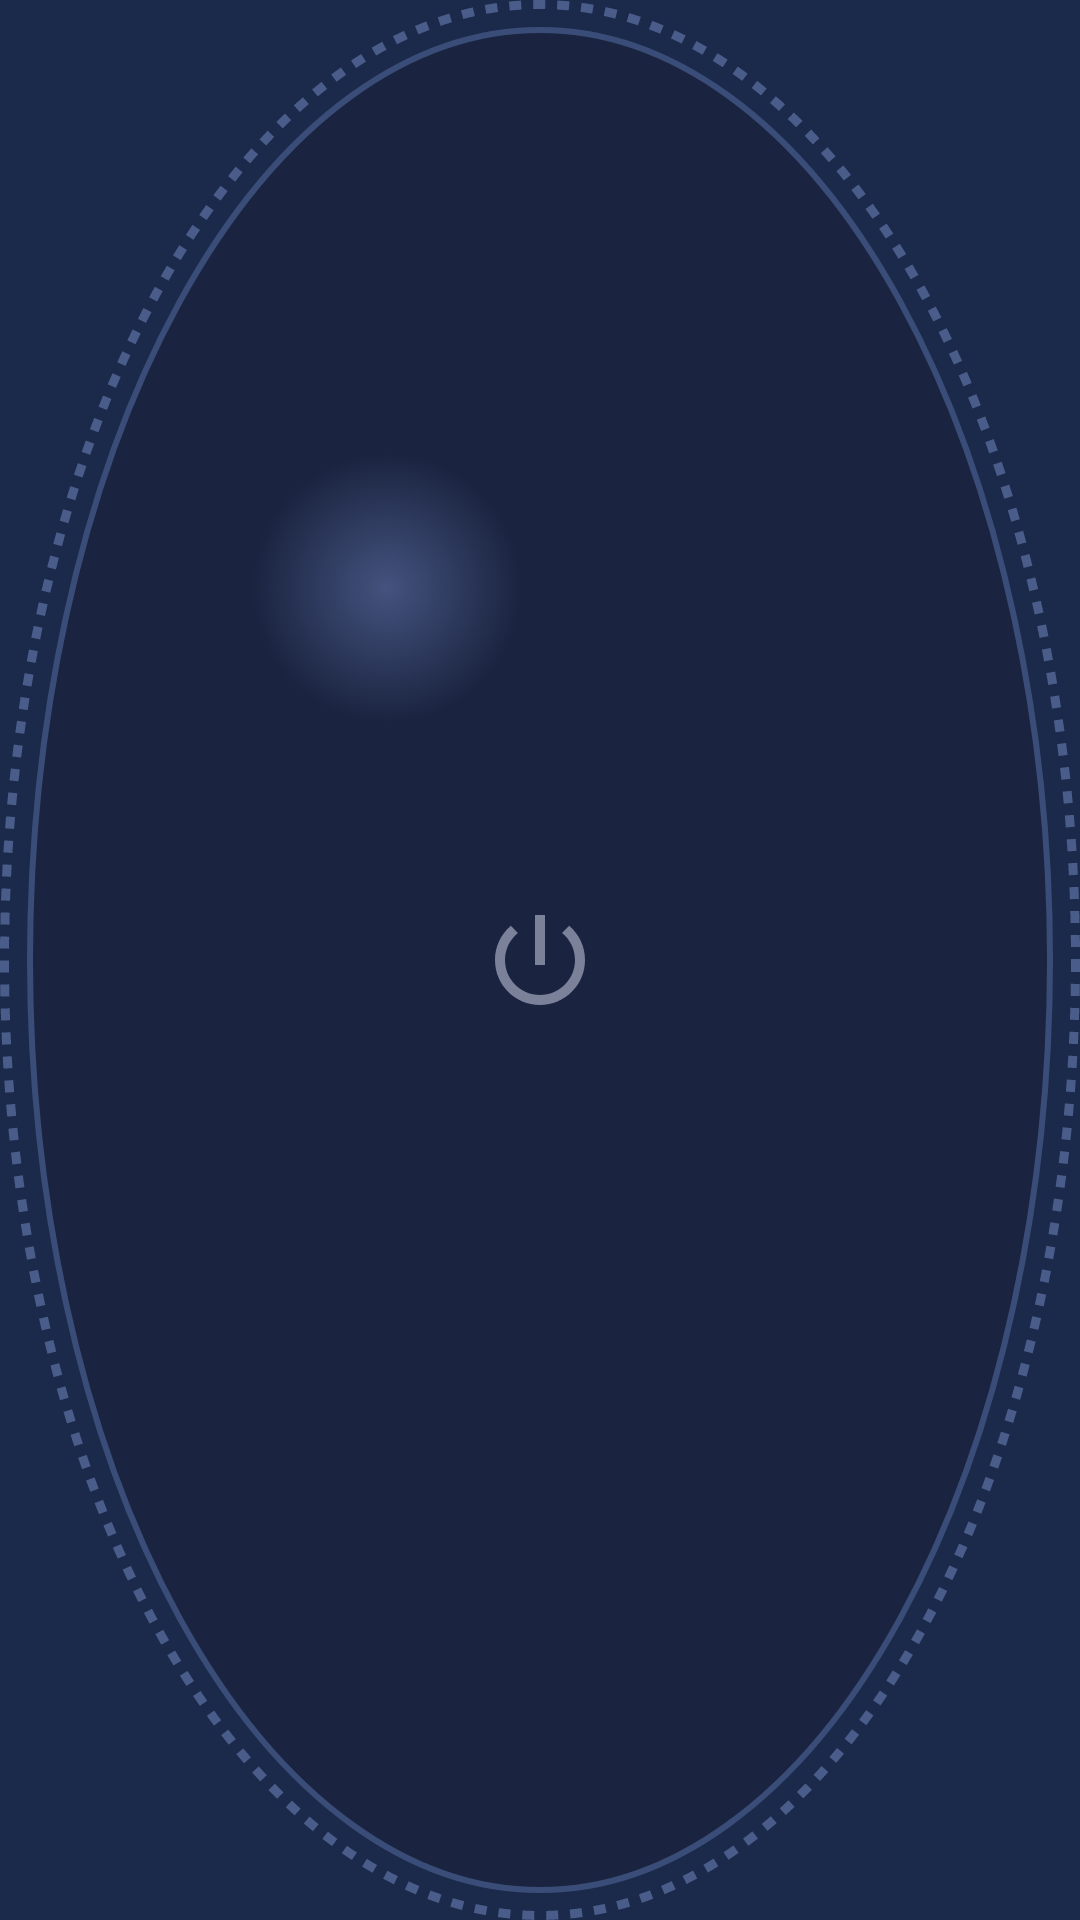

Icons on this 1080 × 1920 Android screen, each with the point to tap as point (x, y):
power: point (540, 960)
